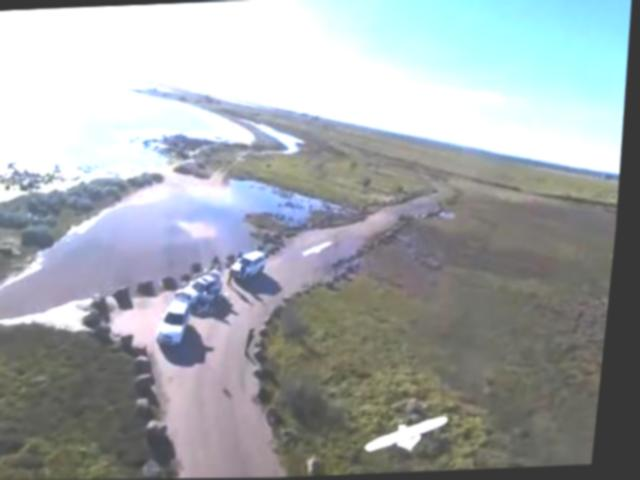uav: (369, 414, 463, 458), (306, 241, 340, 259)
